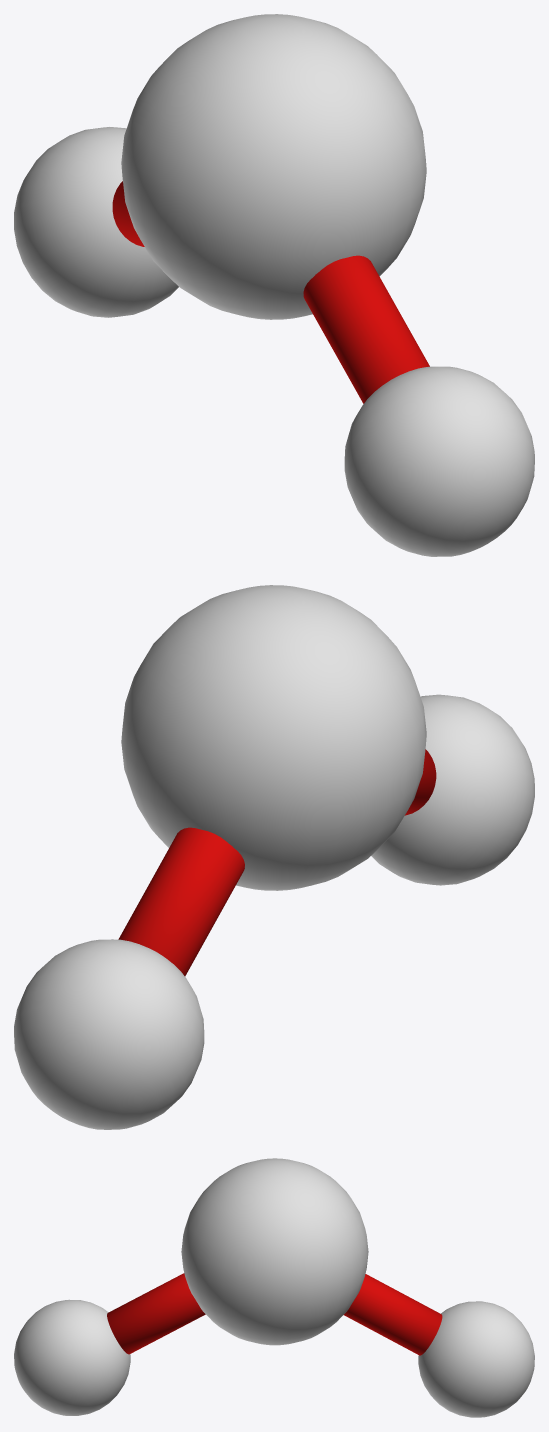
3 renders of one model, top to bottom at view 1: azimuth 30°, elevation 25°; view 2: azimuth 150°, elevation 25°; view 3: azimuth 270°, elevation 25°, orthographic. The views are drawn at different scales.
Parts seen in each view (by area): view 1: Sphere, H.001, H.002, bond.001, bond.002; view 2: Sphere, H.002, H.001, bond.002, bond.001; view 3: Sphere, H.002, H.001, bond.001, bond.002.
Part boxes in pixels (x1,y1,x2,y2): Sphere: (121,14,426,319); H.001: (344,366,534,556); H.002: (14,127,178,317); bond.001: (303,255,429,403); bond.002: (112,181,144,246); Sphere: (121,585,426,890); H.002: (14,939,204,1129); H.001: (371,694,534,885); bond.002: (118,827,244,976); bond.001: (405,749,436,815); Sphere: (181,1158,368,1345); H.002: (418,1301,534,1417); H.001: (14,1299,130,1415); bond.001: (107,1273,205,1354); bond.002: (344,1274,442,1355).
Bounding box in the file's own units: 160 × 231 × 445.
